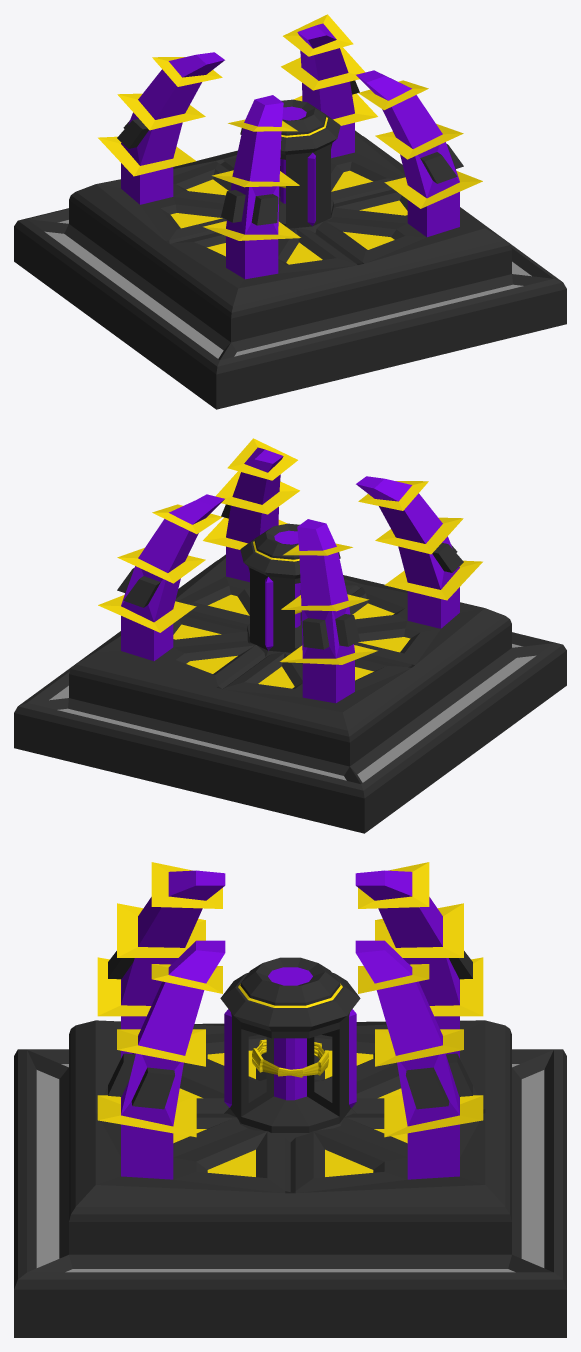
File: PowerStuff.fbx
3 views of the same model, one above another, from view 1: azimuth 30°, elevation 25°; view 2: azimuth 150°, elevation 25°; view 3: azimuth 270°, elevation 25° (orthographic). The views are drawn at different scales.
Visible parts, largest first — view 1: PowerGenerator, PowerCell; view 2: PowerGenerator, PowerCell; view 3: PowerGenerator, PowerCell.
Boxes of the visible parts, x1,y1,x2,y2 form: PowerGenerator: (14,14,566,409); PowerCell: (240,99,340,233); PowerGenerator: (14,438,566,833); PowerCell: (240,523,340,657); PowerGenerator: (14,862,566,1337); PowerCell: (220,957,360,1142).
Size of the model in its own units: 210 by 130 by 210.
